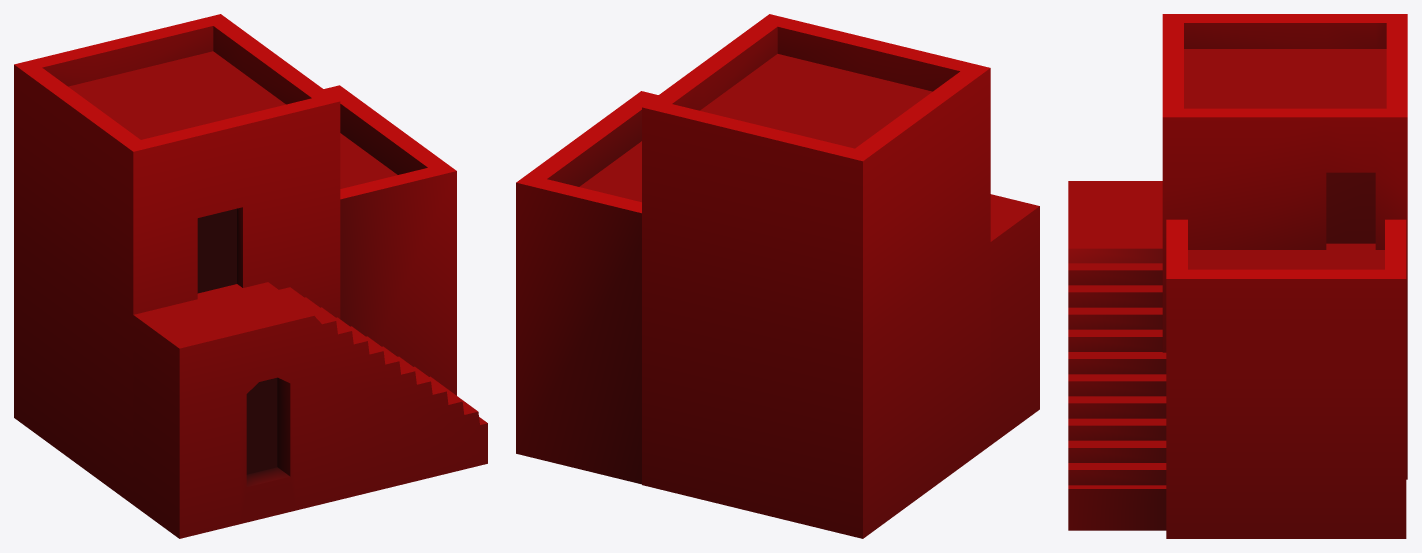
The model's file is buildings-historical-desertbuildingold_v8.fbx.
3 views of the same model, side by side, from view 1: azimuth 30°, elevation 25°; view 2: azimuth 150°, elevation 25°; view 3: azimuth 270°, elevation 25° (orthographic). The views are drawn at different scales.
Parts seen in each view (by area): view 1: DesertBuildingOld_v8; view 2: DesertBuildingOld_v8; view 3: DesertBuildingOld_v8.
Boxes of the visible parts, bbox=[...] form: DesertBuildingOld_v8: bbox=[14, 14, 487, 538]; DesertBuildingOld_v8: bbox=[516, 14, 1039, 538]; DesertBuildingOld_v8: bbox=[1068, 14, 1407, 538].
Size of the model in its own units: 14.05 by 14.59 by 12.39.
